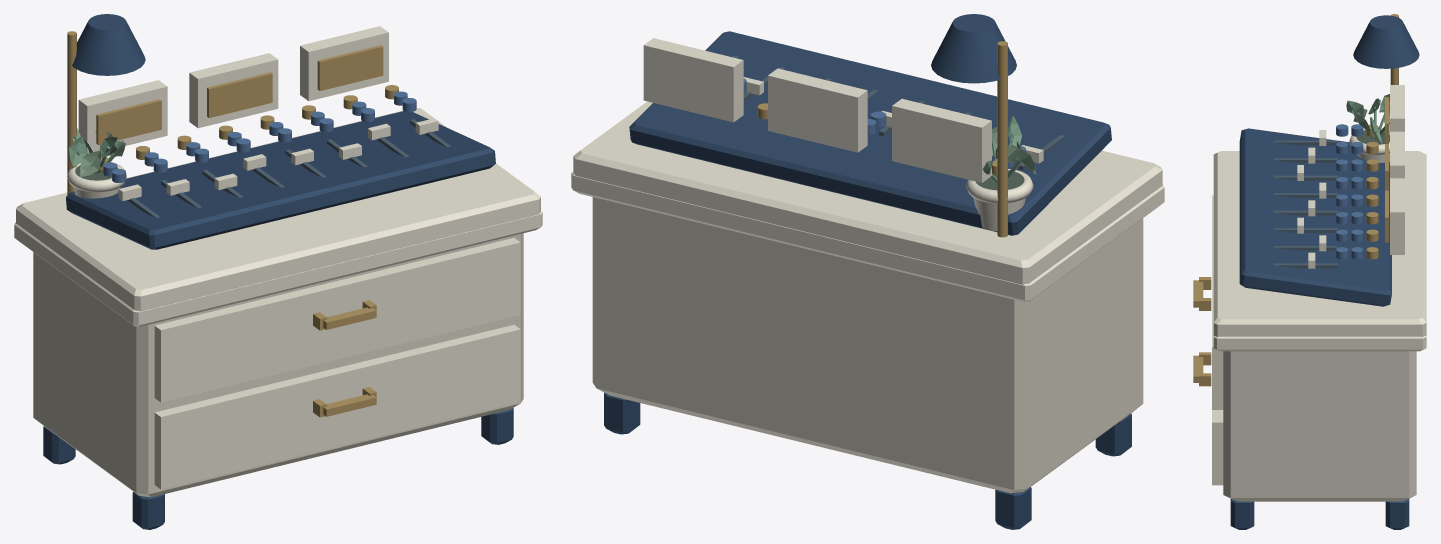
File: v18_special_mixing_console.glb
3 views of the same model, side by side, from view 1: azimuth 30°, elevation 25°; view 2: azimuth 150°, elevation 25°; view 3: azimuth 270°, elevation 25° (orthographic). The views are drawn at different scales.
Parts seen in each view (by area): view 1: _MeshInstance3D_5604, _MeshInstance3D_5596, _MeshInstance3D_5600, _MeshInstance3D_5594, _MeshInstance3D_5605, _MeshInstance3D_5595, _MeshInstance3D_5680, _MeshInstance3D_5648, _MeshInstance3D_5650, _MeshInstance3D_5646, _MeshInstance3D_5651, _MeshInstance3D_5649 (+8 smaller); view 2: _MeshInstance3D_5594, _MeshInstance3D_5605, _MeshInstance3D_5604, _MeshInstance3D_5595, _MeshInstance3D_5650, _MeshInstance3D_5648, _MeshInstance3D_5646, _MeshInstance3D_5680, _MeshInstance3D_5679, _MeshInstance3D_5590, _MeshInstance3D_5592, _MeshInstance3D_5591 (+2 smaller); view 3: _MeshInstance3D_5594, _MeshInstance3D_5605, _MeshInstance3D_5604, _MeshInstance3D_5595, _MeshInstance3D_5680, _MeshInstance3D_5650, _MeshInstance3D_5600, _MeshInstance3D_5596, _MeshInstance3D_5648, _MeshInstance3D_5646, _MeshInstance3D_5592, _MeshInstance3D_5593 (+4 smaller).
Boxes of the visible parts, x1=… form: _MeshInstance3D_5604: x1=16, y1=108, x2=540, y2=311; _MeshInstance3D_5596: x1=154, y1=324, x2=520, y2=489; _MeshInstance3D_5600: x1=154, y1=238, x2=520, y2=402; _MeshInstance3D_5594: x1=33, y1=233, x2=523, y2=497; _MeshInstance3D_5605: x1=66, y1=111, x2=495, y2=249; _MeshInstance3D_5595: x1=14, y1=211, x2=542, y2=326; _MeshInstance3D_5680: x1=72, y1=14, x2=145, y2=75; _MeshInstance3D_5648: x1=189, y1=53, x2=278, y2=128; _MeshInstance3D_5650: x1=300, y1=26, x2=388, y2=101; _MeshInstance3D_5646: x1=78, y1=80, x2=167, y2=154; _MeshInstance3D_5651: x1=317, y1=45, x2=383, y2=90; _MeshInstance3D_5649: x1=207, y1=72, x2=272, y2=117; _MeshInstance3D_5594: x1=592, y1=197, x2=1143, y2=493; _MeshInstance3D_5605: x1=629, y1=31, x2=1111, y2=235; _MeshInstance3D_5604: x1=573, y1=101, x2=1162, y2=284; _MeshInstance3D_5595: x1=571, y1=172, x2=1164, y2=301; _MeshInstance3D_5650: x1=643, y1=38, x2=743, y2=122; _MeshInstance3D_5648: x1=768, y1=68, x2=867, y2=152; _MeshInstance3D_5646: x1=892, y1=98, x2=991, y2=182; _MeshInstance3D_5680: x1=931, y1=14, x2=1016, y2=83; _MeshInstance3D_5679: x1=997, y1=41, x2=1007, y2=237; _MeshInstance3D_5590: x1=995, y1=487, x2=1031, y2=529; _MeshInstance3D_5592: x1=604, y1=393, x2=640, y2=434; _MeshInstance3D_5591: x1=1095, y1=413, x2=1131, y2=456; _MeshInstance3D_5594: x1=1223, y1=351, x2=1416, y2=501; _MeshInstance3D_5605: x1=1239, y1=128, x2=1391, y2=306; _MeshInstance3D_5604: x1=1213, y1=151, x2=1426, y2=336; _MeshInstance3D_5595: x1=1213, y1=336, x2=1426, y2=351; _MeshInstance3D_5680: x1=1353, y1=15, x2=1419, y2=68; _MeshInstance3D_5650: x1=1390, y1=178, x2=1404, y2=254; _MeshInstance3D_5600: x1=1212, y1=195, x2=1223, y2=409; _MeshInstance3D_5596: x1=1212, y1=410, x2=1223, y2=485; _MeshInstance3D_5648: x1=1390, y1=131, x2=1404, y2=178; _MeshInstance3D_5646: x1=1390, y1=85, x2=1404, y2=131; _MeshInstance3D_5592: x1=1385, y1=499, x2=1409, y2=529; _MeshInstance3D_5593: x1=1230, y1=499, x2=1254, y2=529.
Bounding box in the file's own units: 1.39 × 1.4 × 0.789.
